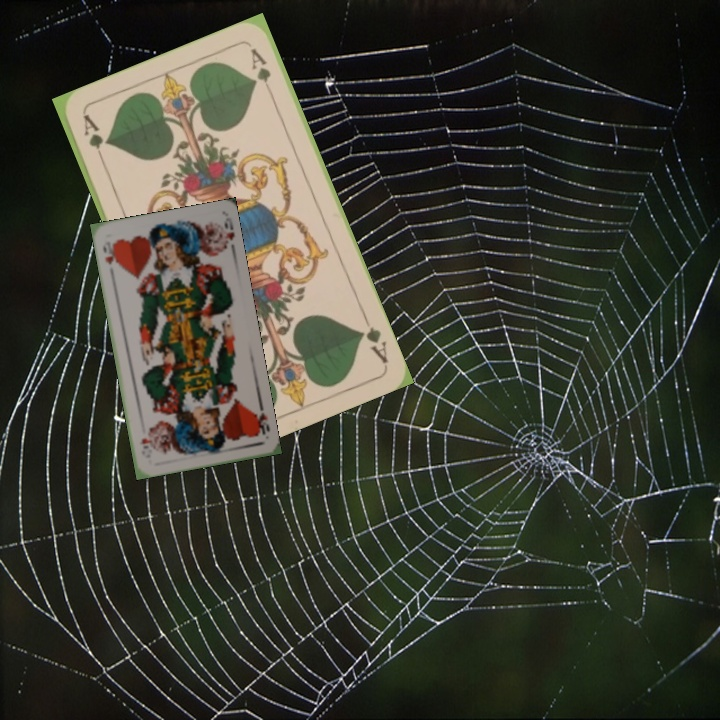GA: (354, 310, 391, 367), (79, 111, 108, 168)
HO: (250, 399, 272, 438), (98, 238, 120, 267)
